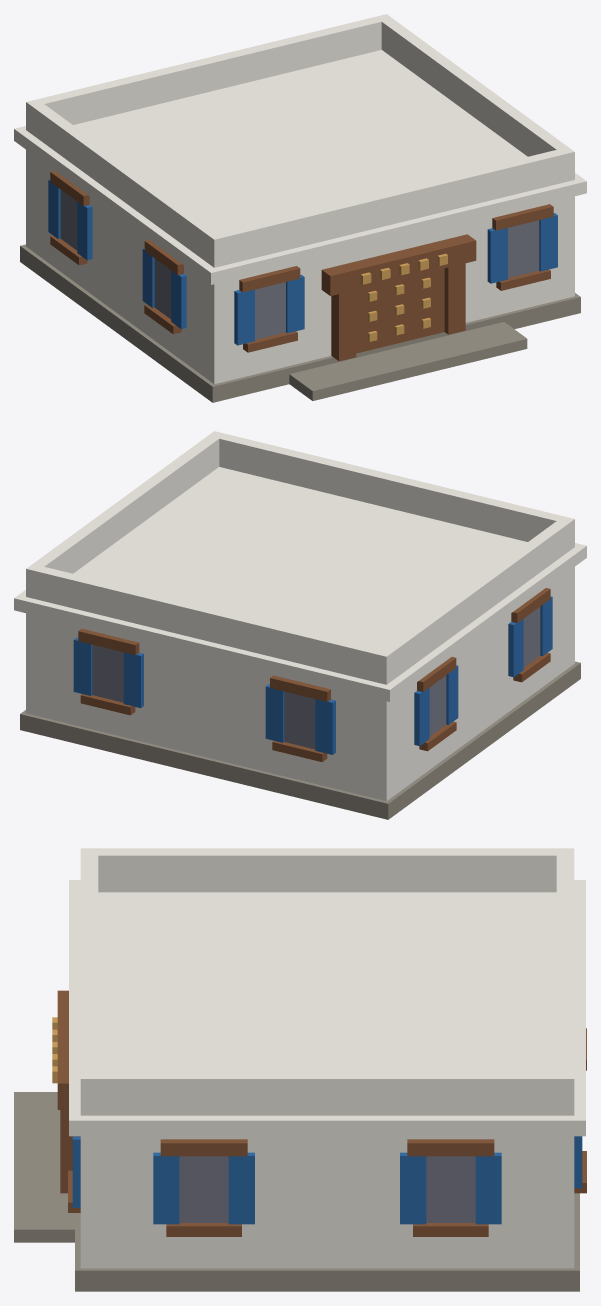
Rendered from house-1x1-1f-swahili-a.glb.
3 renders of one model, top to bottom at view 1: azimuth 30°, elevation 25°; view 2: azimuth 150°, elevation 25°; view 3: azimuth 270°, elevation 25°, orthographic. The views are drawn at different scales.
Visible parts, largest first — view 1: house-1x1-1f-swahili-a; view 2: house-1x1-1f-swahili-a; view 3: house-1x1-1f-swahili-a.
Boxes of the visible parts, x1,y1,x2,y2 form: house-1x1-1f-swahili-a: (14,14,586,402); house-1x1-1f-swahili-a: (14,431,586,819); house-1x1-1f-swahili-a: (14,848,586,1291).
Size of the model in its own units: 0.984 by 0.4 by 0.987.
Materials: 1 (1 with a texture image).
